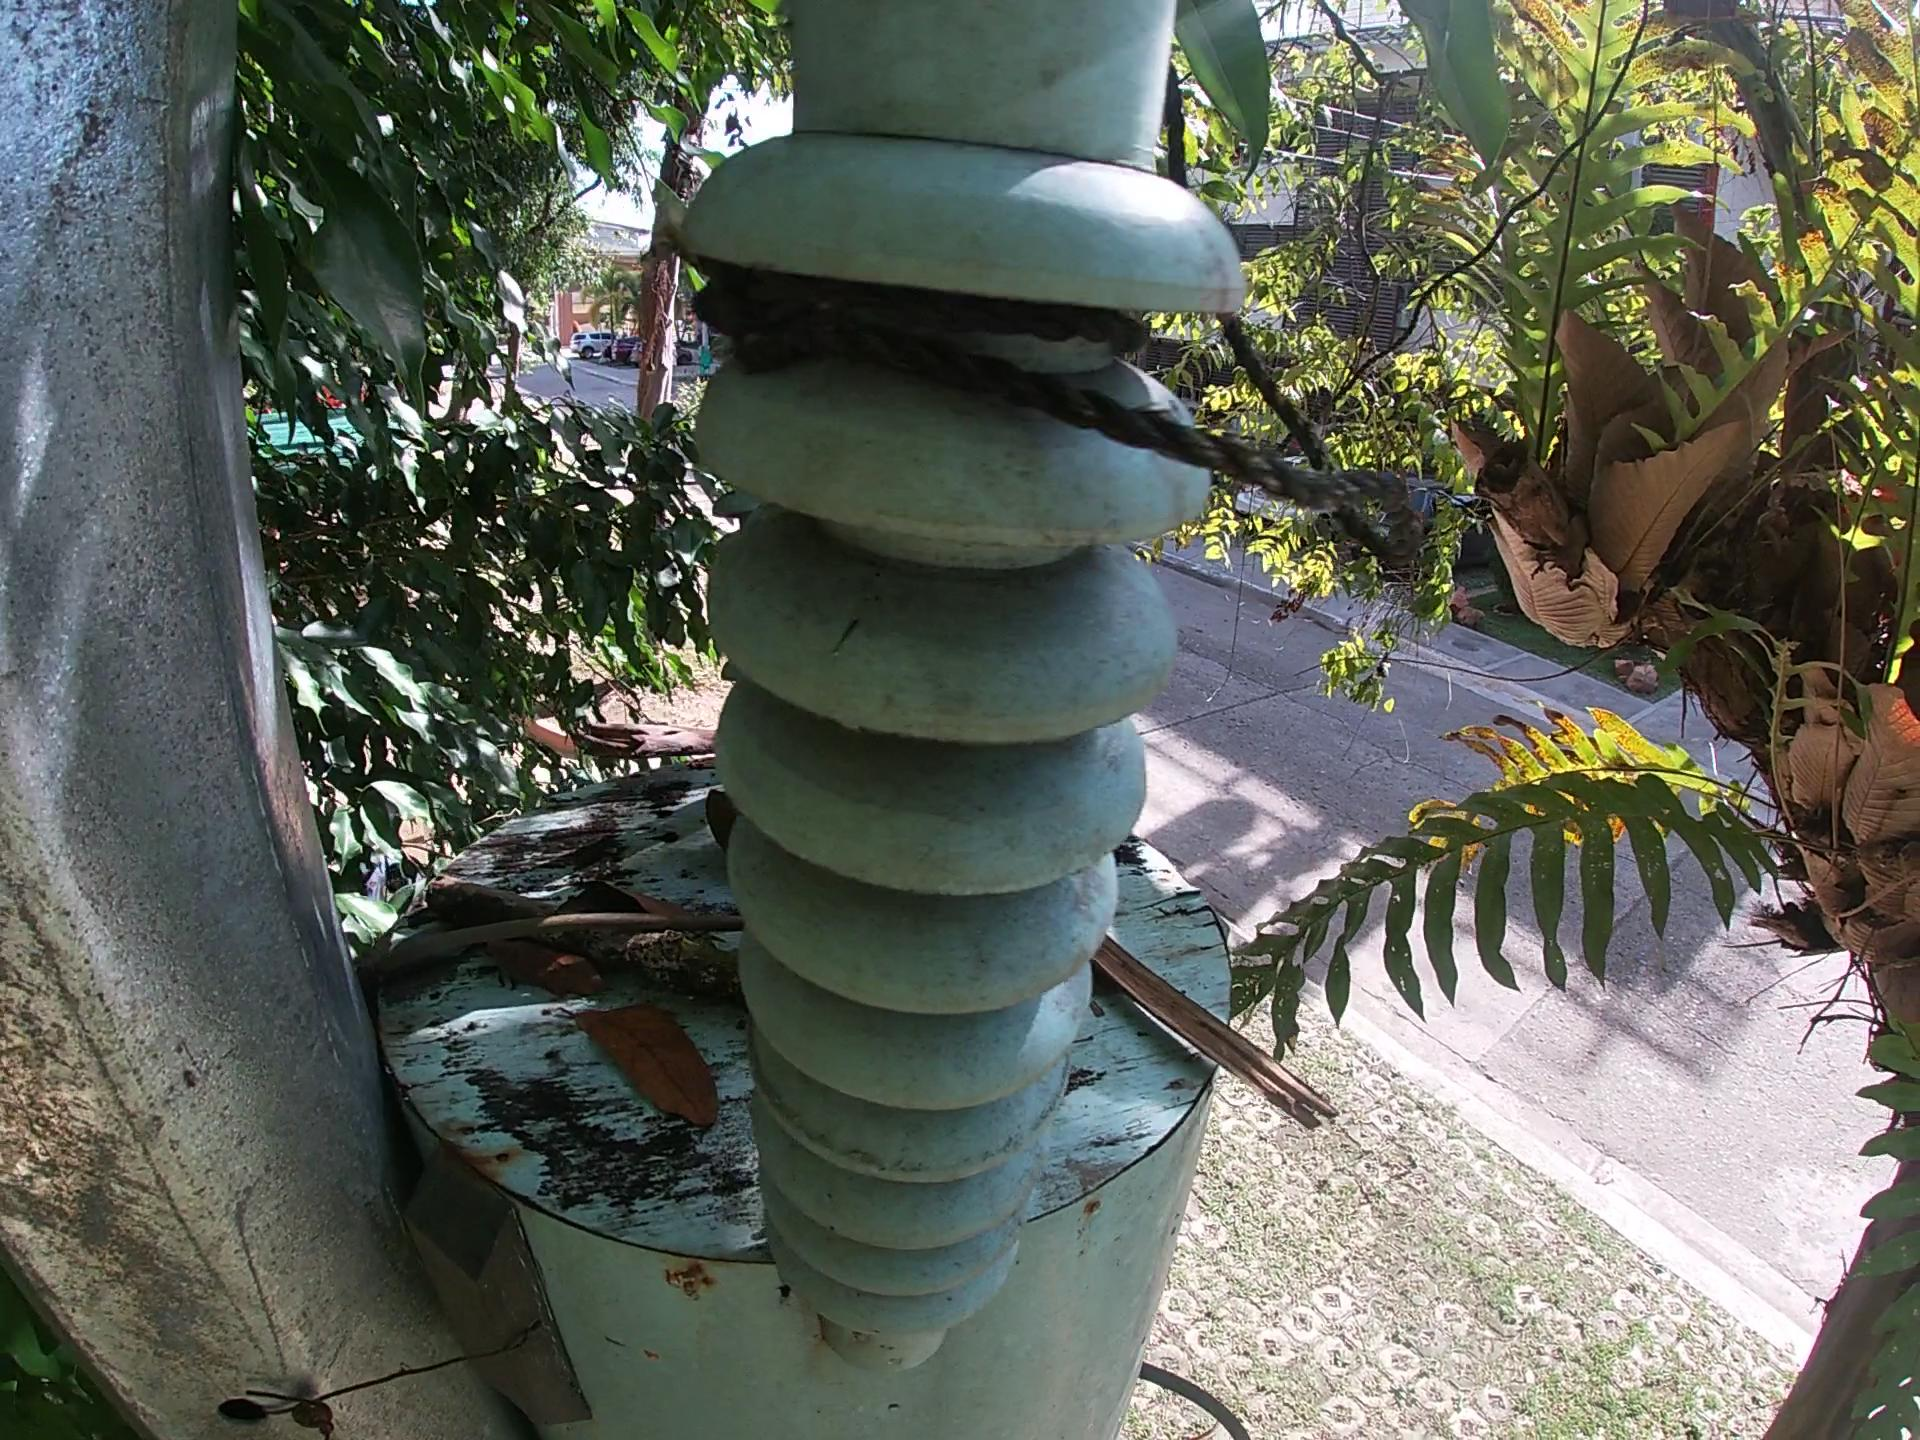leaf: (552, 995, 735, 1144), (485, 936, 600, 992), (550, 885, 662, 923)
tree branch: (1085, 929, 1339, 1137), (420, 868, 759, 1004), (345, 908, 754, 988), (565, 718, 732, 774)
